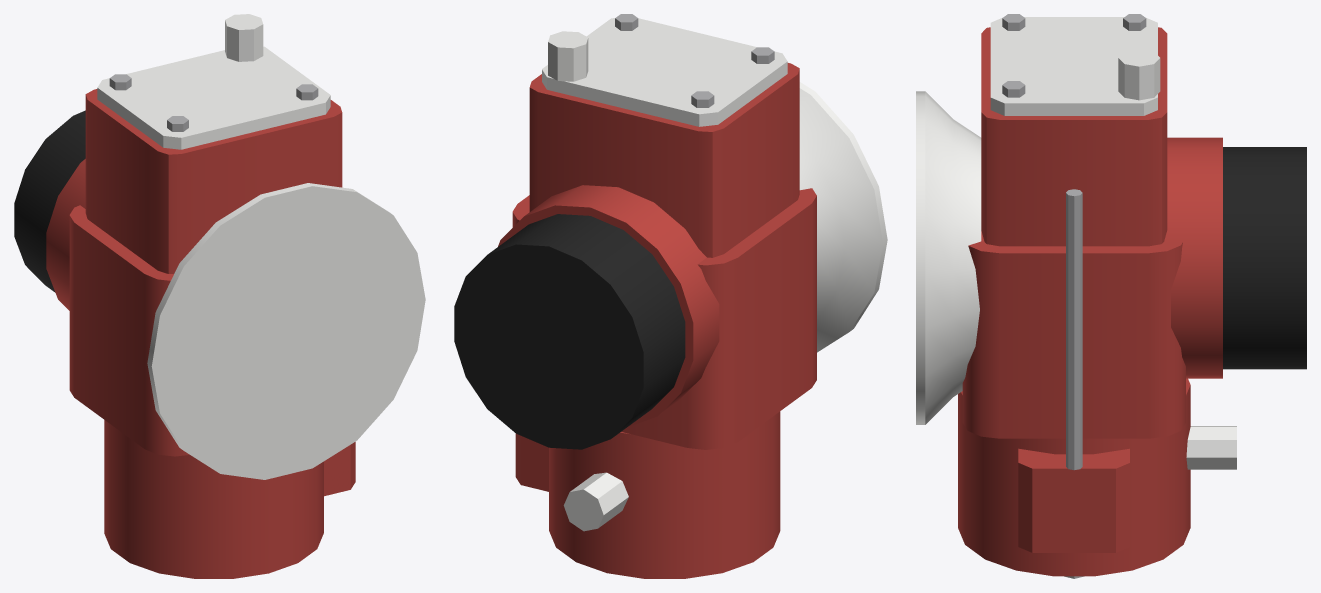
Rendered from carb_flat.glb.
3 renders of one model, left to right at view 1: azimuth 30°, elevation 25°; view 2: azimuth 150°, elevation 25°; view 3: azimuth 270°, elevation 25°, orthographic. The views are drawn at different scales.
Visible parts, largest first — view 1: lod0; view 2: lod0; view 3: lod0.
Part boxes in pixels (x1,y1,x2,y2): lod0: (14, 14, 425, 578); lod0: (454, 14, 887, 578); lod0: (916, 14, 1306, 578).
Size of what is drawn, in the model's own units: 0.072 by 0.129 by 0.084.
